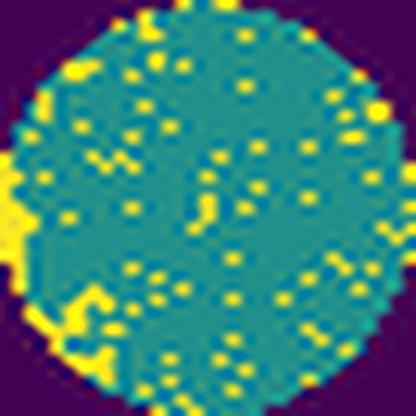Edge-Loc: (21, 281, 124, 384), (0, 152, 44, 295)
